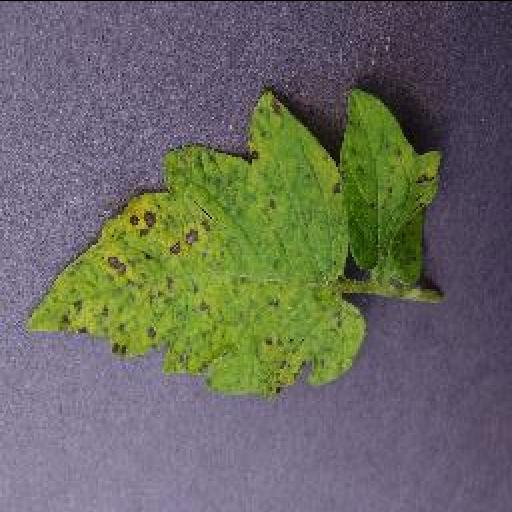disease_tomato: (28, 86, 444, 392)
